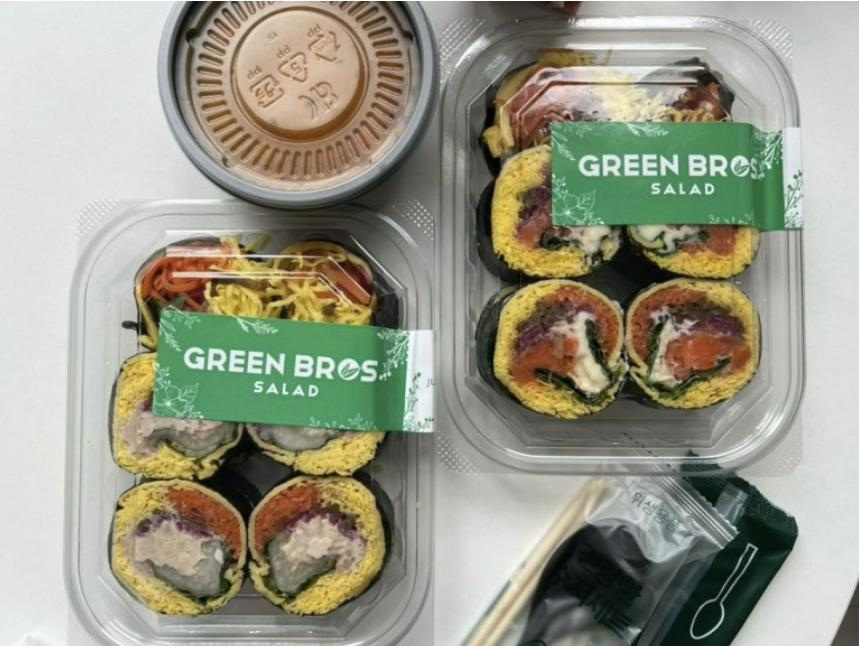Lunch Box: (433, 16, 804, 475), (64, 200, 435, 645), (159, 0, 439, 208)
